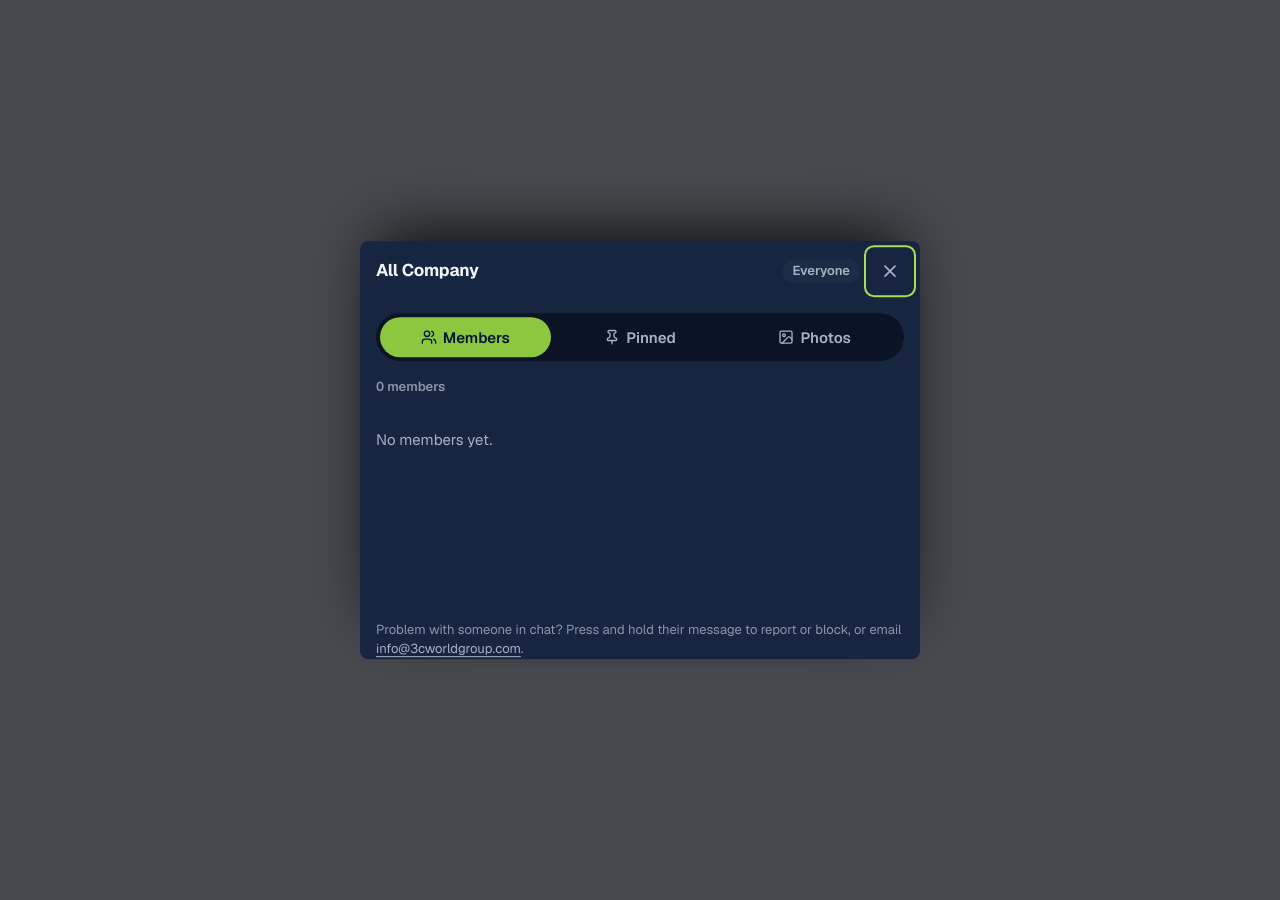
it: ChannelInfoSheet › shows the fallback copy when pins or photos fail with a non-JSON body
Click the button "Pinned".
click(640, 337)  # box [555,317,725,357]
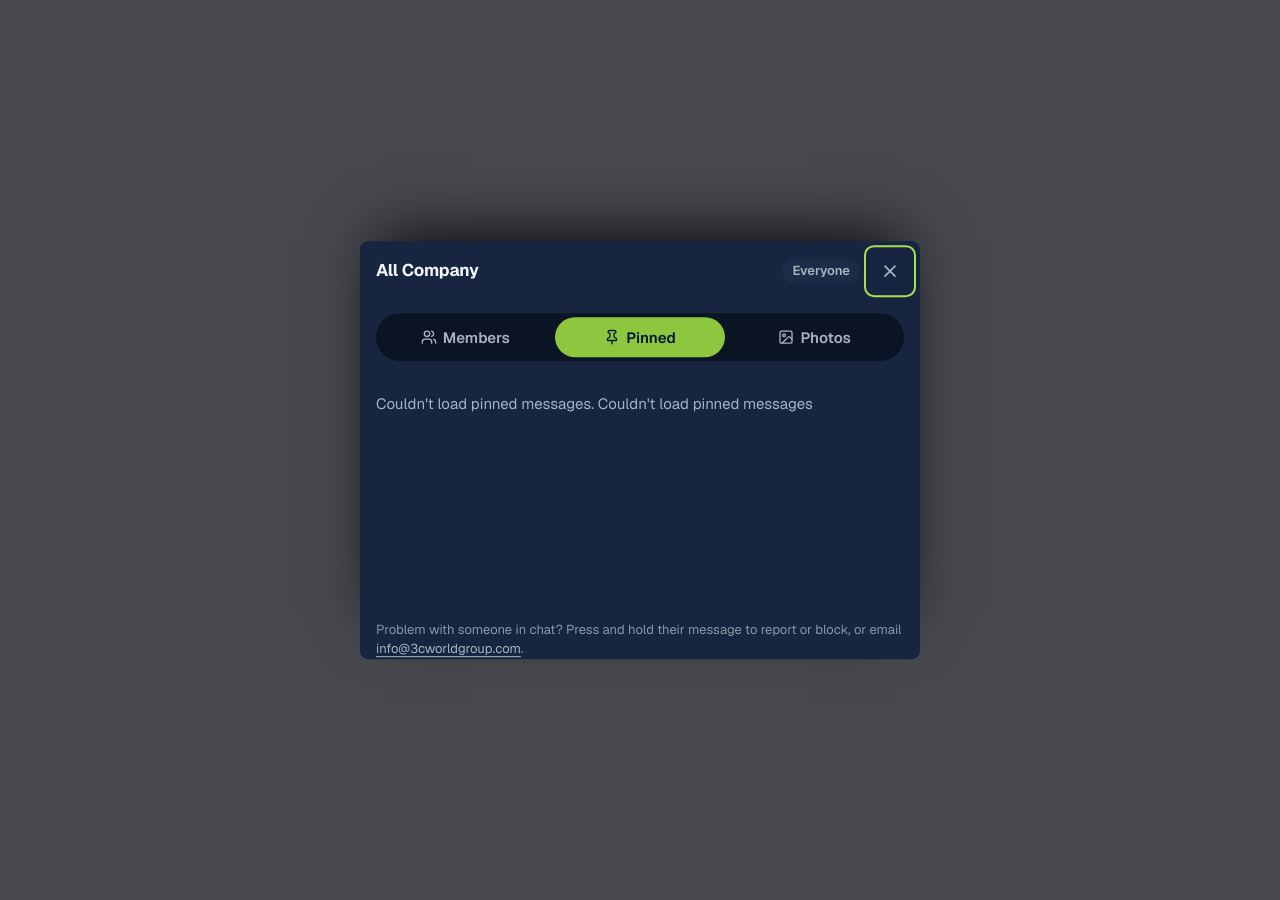
Expected: the message "Couldn't load pinned messages. Couldn't load pinned messages" is shown, [376,394,813,413]
Click the button "Photos".
click(815, 337)  # box [729,317,900,357]
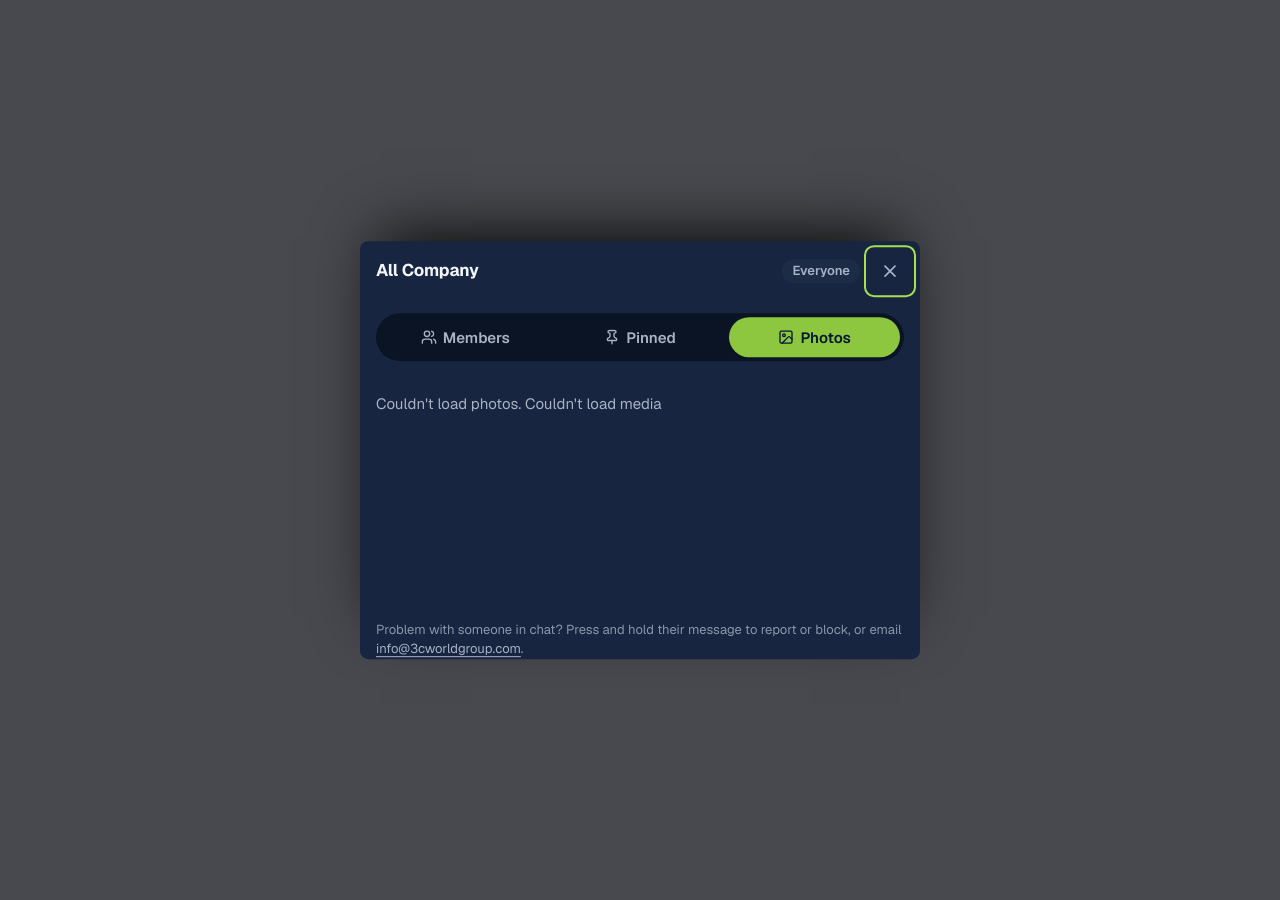
Expected: the message "Couldn't load photos. Couldn't load media" is shown, [376,394,662,413]
